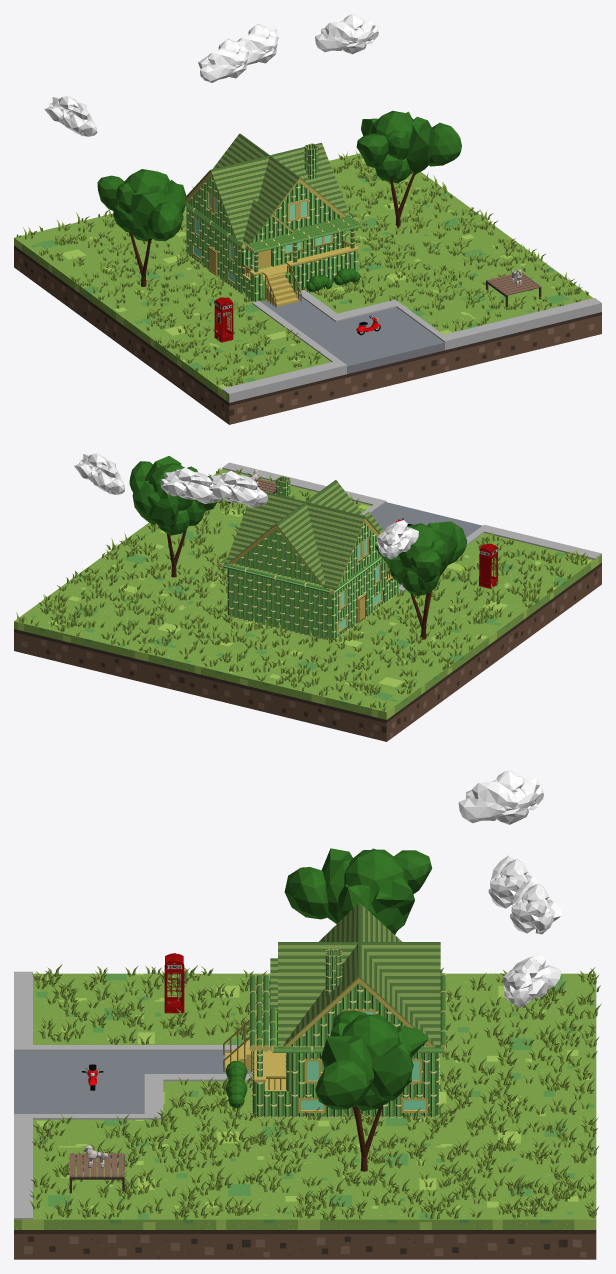
3 views of the same model, one above another, from view 1: azimuth 30°, elevation 25°; view 2: azimuth 150°, elevation 25°; view 3: azimuth 270°, elevation 25° (orthographic). The views are drawn at different scales.
Parts seen in each view (by area): view 1: Cube.006, Cube.1327, Circle.012_Grass_0.192, Cube.007, tree, tree.001, OBJRANDOM_PHONEBOOTH, Cube.009; view 2: Cube.006, Cube.1327, Circle.012_Grass_0.192, Cube.007, tree.001, tree, OBJRANDOM_PHONEBOOTH; view 3: Cube.006, Circle.012_Grass_0.192, Cube.1327, tree, Cube.007, tree.001, Cube.009, OBJRANDOM_PHONEBOOTH.
Part boxes in pixels (x1,y1,x2,y2): Cube.006: (14, 153, 601, 424); Cube.1327: (185, 133, 361, 307); Circle.012_Grass_0.192: (16, 150, 588, 386); Cube.007: (44, 14, 378, 136); tree: (356, 110, 461, 228); tree.001: (97, 169, 186, 286); OBJRANDOM_PHONEBOOTH: (214, 297, 233, 342); Cube.009: (486, 272, 541, 306); Cube.006: (14, 462, 601, 741); Cube.1327: (218, 476, 399, 641); Circle.012_Grass_0.192: (16, 468, 588, 711); Cube.007: (74, 453, 418, 559); tree.001: (375, 521, 467, 639); tree: (129, 456, 216, 577); OBJRANDOM_PHONEBOOTH: (478, 543, 498, 588); Cube.006: (14, 971, 596, 1259); Circle.012_Grass_0.192: (29, 964, 601, 1220); Cube.1327: (223, 903, 446, 1117); tree: (315, 1010, 428, 1171); Cube.007: (458, 770, 561, 1007); tree.001: (284, 848, 432, 934); Cube.009: (69, 1153, 124, 1193); OBJRANDOM_PHONEBOOTH: (164, 953, 184, 1013).
Size of the model in its own units: 4071 by 2126 by 4040.
Materials: 36 (5 with a texture image).
